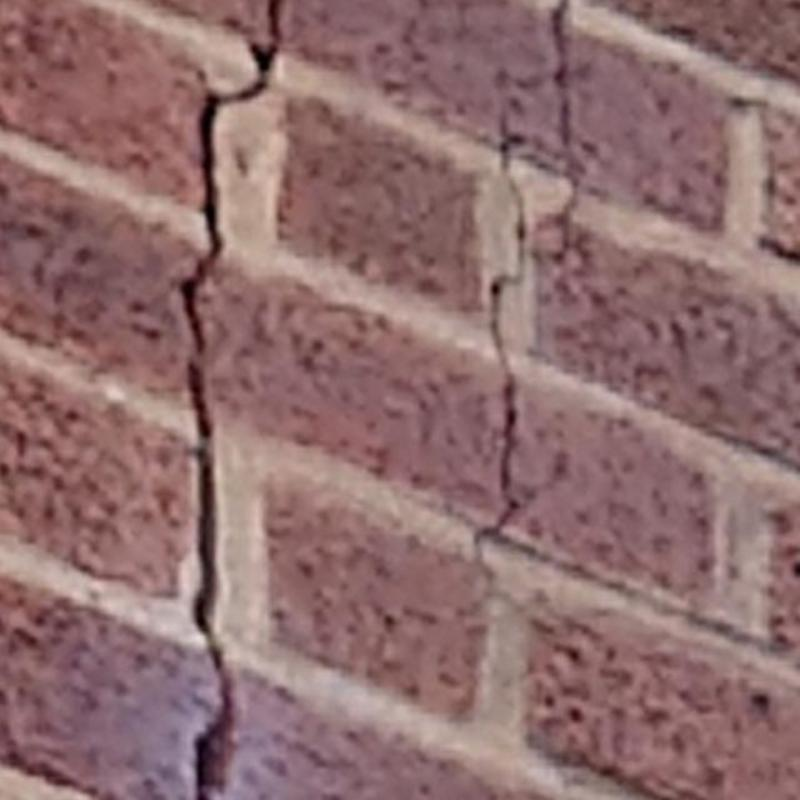crack: (180, 0, 281, 800), (475, 139, 525, 559), (550, 0, 578, 245)
